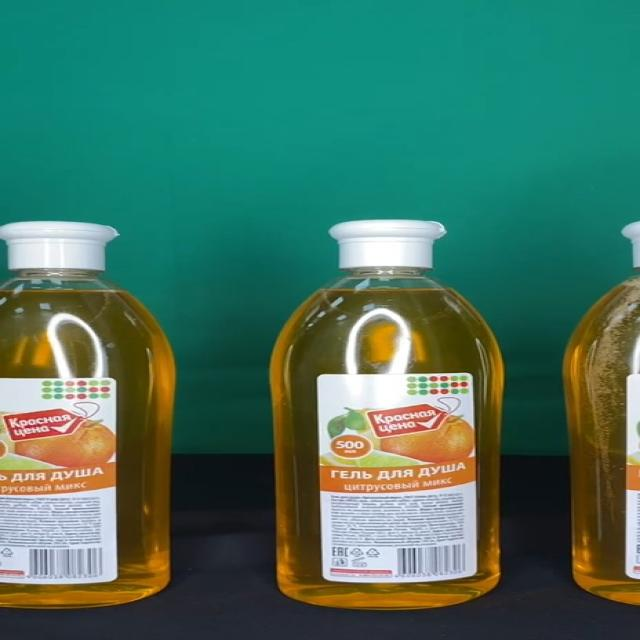Bottle: (271, 219, 505, 611), (0, 221, 177, 608)
Cap: (330, 220, 450, 268), (0, 222, 120, 270)
